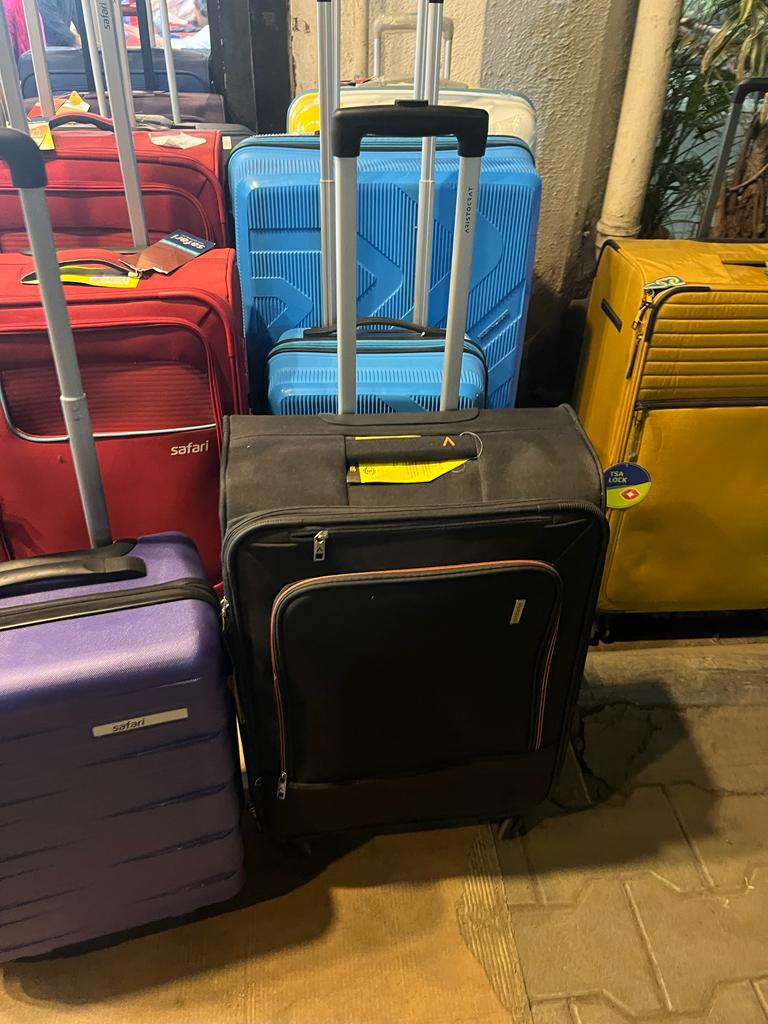Bag: (219, 414, 615, 860), (0, 536, 259, 985), (592, 68, 768, 648), (0, 239, 234, 533), (270, 325, 491, 415)
Handle: (316, 102, 498, 412), (1, 111, 121, 565), (305, 0, 456, 325), (4, 0, 163, 266), (705, 71, 768, 231)
